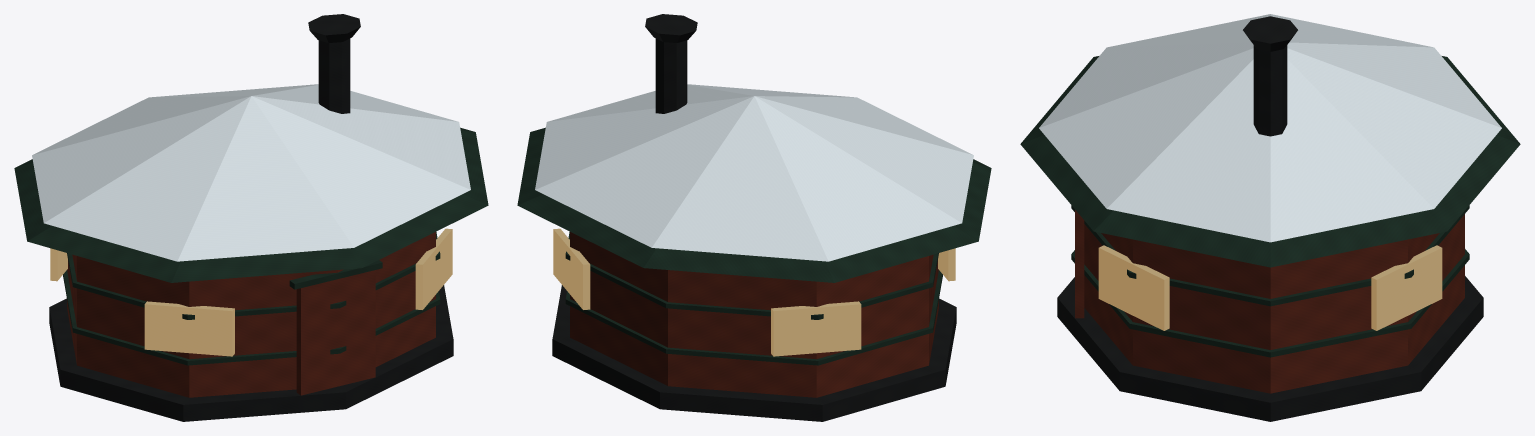
File: summit-hut.glb
The picture shows the model from 3 angles, left to right: view 1: azimuth 30°, elevation 25°; view 2: azimuth 150°, elevation 25°; view 3: azimuth 270°, elevation 25°; orthographic projection. The views are drawn at different scales.
Visible parts, largest first — view 1: summit-hut-warming-hut_3, summit-hut-warming-hut_1, summit-hut-warming-hut_2, summit-hut-warming-hut_0, summit-hut-warming-hut_4, summit-hut-warming-hut_5; view 2: summit-hut-warming-hut_3, summit-hut-warming-hut_1, summit-hut-warming-hut_2, summit-hut-warming-hut_0, summit-hut-warming-hut_5; view 3: summit-hut-warming-hut_3, summit-hut-warming-hut_1, summit-hut-warming-hut_2, summit-hut-warming-hut_0, summit-hut-warming-hut_5, summit-hut-warming-hut_4.
Part boxes in pixels (x1,y1,x2,y2): summit-hut-warming-hut_3: (32, 84, 470, 261); summit-hut-warming-hut_1: (67, 232, 435, 397); summit-hut-warming-hut_2: (14, 127, 488, 365); summit-hut-warming-hut_0: (49, 14, 453, 421); summit-hut-warming-hut_4: (296, 270, 375, 395); summit-hut-warming-hut_5: (50, 228, 452, 356); summit-hut-warming-hut_3: (535, 84, 973, 261); summit-hut-warming-hut_1: (570, 232, 938, 397); summit-hut-warming-hut_2: (517, 127, 991, 365); summit-hut-warming-hut_0: (552, 14, 956, 421); summit-hut-warming-hut_5: (553, 228, 955, 356); summit-hut-warming-hut_3: (1039, 14, 1501, 242); summit-hut-warming-hut_1: (1084, 214, 1464, 393); summit-hut-warming-hut_2: (1020, 56, 1520, 357); summit-hut-warming-hut_0: (1057, 16, 1483, 421); summit-hut-warming-hut_5: (1098, 245, 1442, 330); summit-hut-warming-hut_4: (1075, 210, 1084, 318).
Bounding box in the file's own units: 7 × 4.4 × 6.
Materials: 5 (5 with a texture image).
